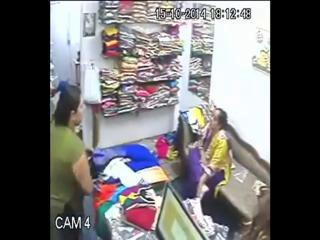Normal: (50, 80, 96, 239)
